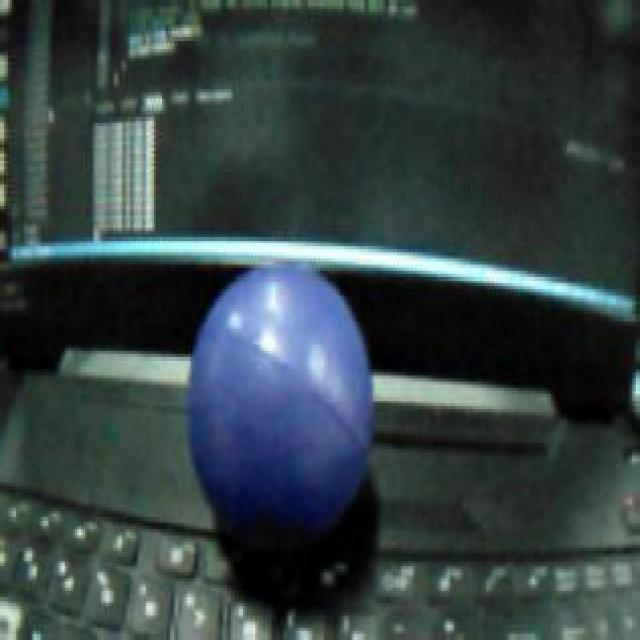BallPurple: (186, 263, 374, 546)
